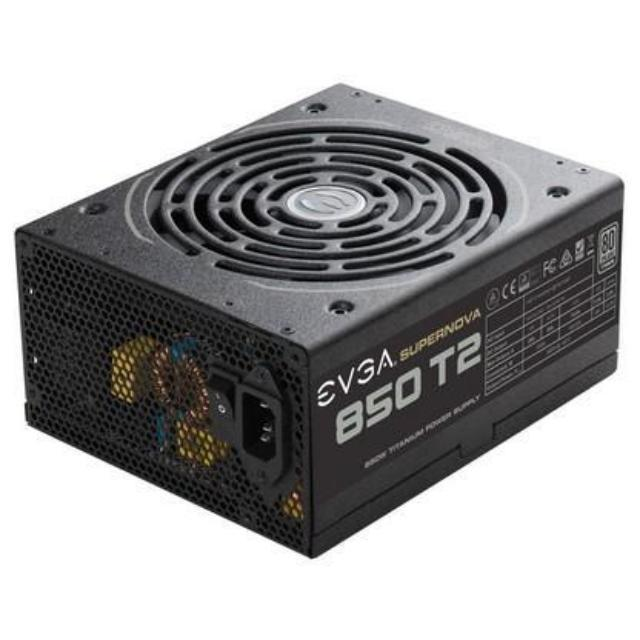PSU: (0, 74, 640, 582)
